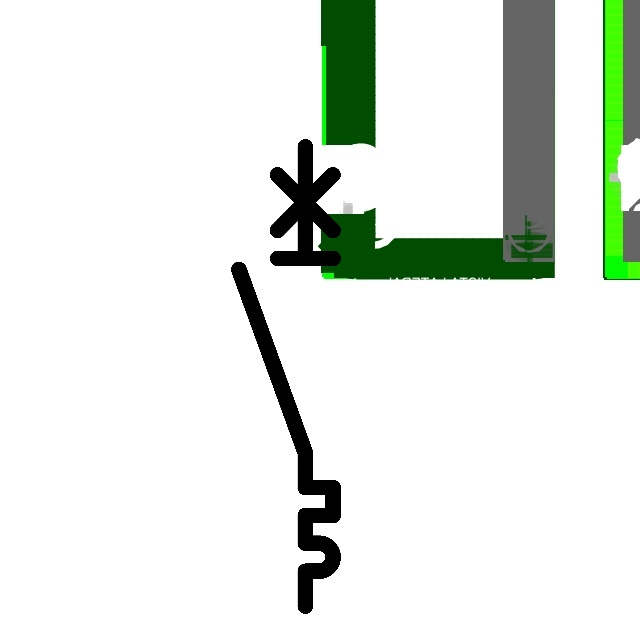interruptor_termomagnetico: (227, 135, 345, 618)
